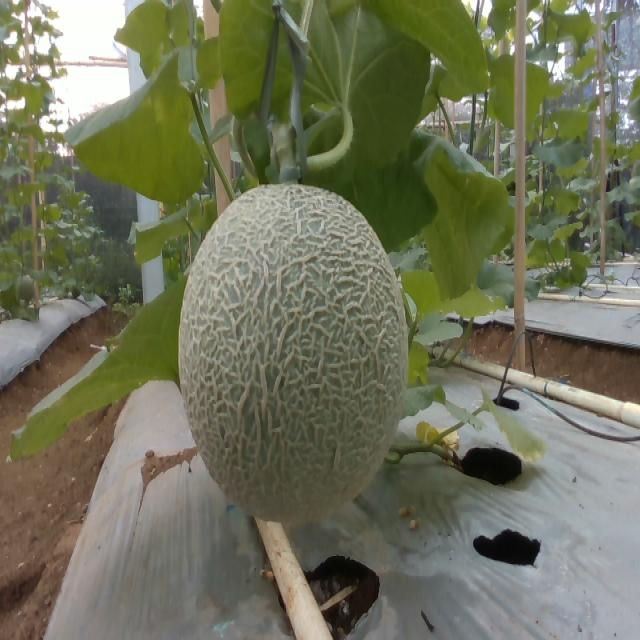melon: (179, 185, 407, 522)
